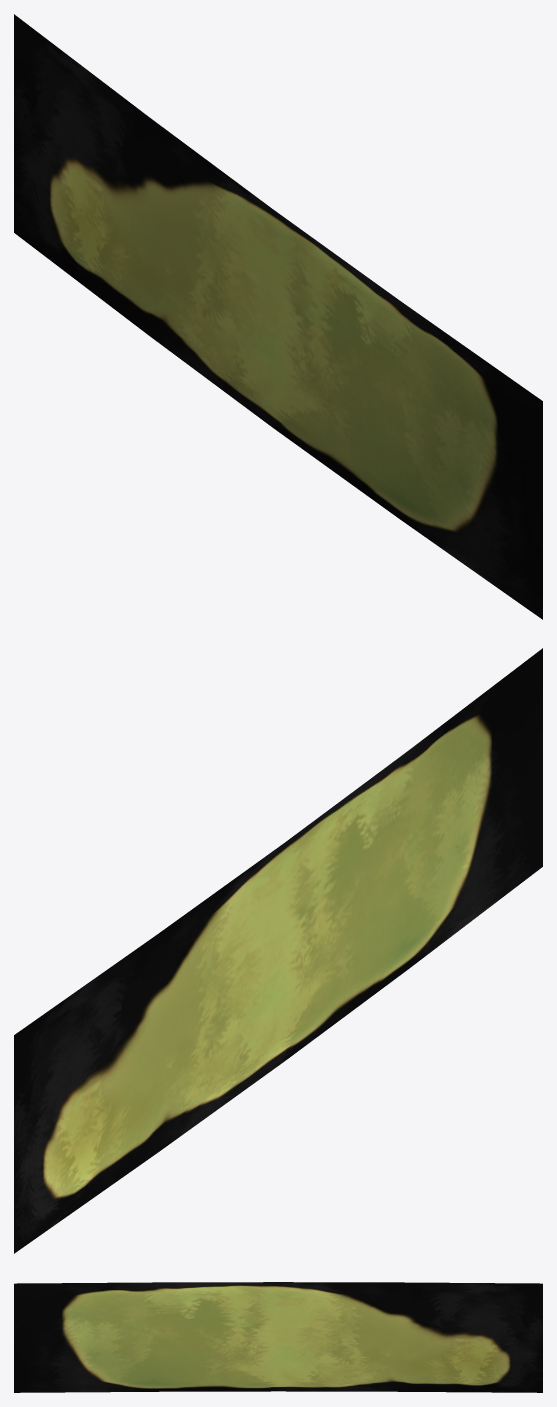
File: Cloud02.glb
3 views of the same model, one above another, from view 1: azimuth 30°, elevation 25°; view 2: azimuth 150°, elevation 25°; view 3: azimuth 270°, elevation 25° (orthographic). The views are drawn at different scales.
Parts seen in each view (by area): view 1: Cloud02; view 2: Cloud02; view 3: Cloud02.
Part boxes in pixels (bbox=[...]): Cloud02: bbox=[14, 14, 542, 619]; Cloud02: bbox=[14, 648, 542, 1253]; Cloud02: bbox=[14, 1282, 542, 1392].
Bounding box in the file's own units: 0.0565 × 1.27 × 5.55.
1 material, 1 textured.
